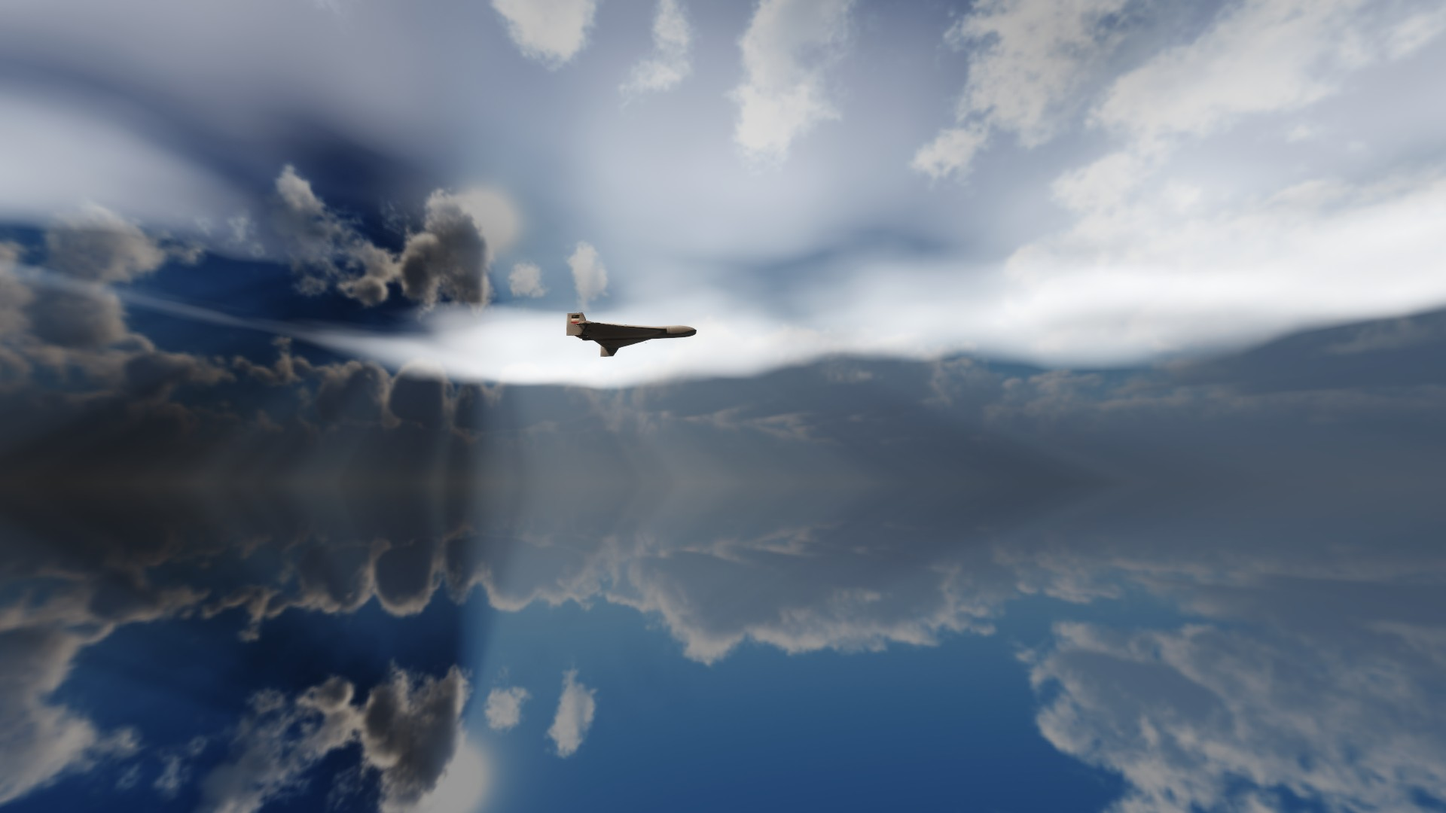shahed: (566, 313, 697, 357)
